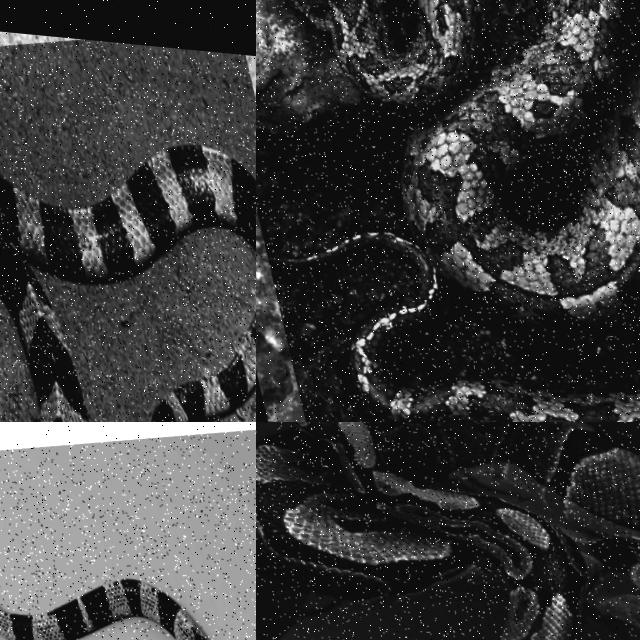Bungarus candidus: (0, 580, 206, 639)
Bungarus fasciatus: (0, 145, 255, 421)
Ovophis monticola: (270, 0, 639, 421)
Python bivittatus: (256, 422, 639, 639)
